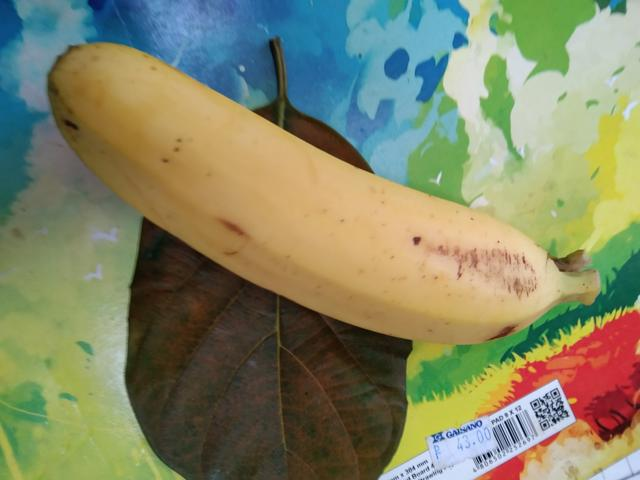freshripe: (44, 31, 564, 352)
